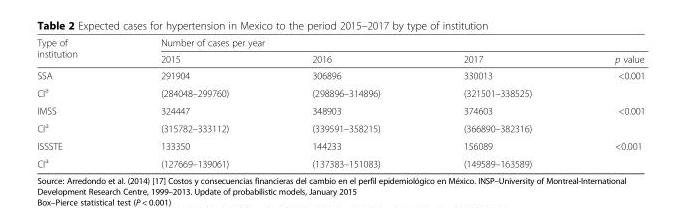table: (36, 36, 644, 169)
table column: (269, 36, 421, 169), (118, 36, 269, 169), (421, 36, 572, 169), (36, 36, 118, 169), (572, 36, 644, 169)
table column header: (36, 36, 644, 66)
table row: (36, 83, 644, 101), (36, 118, 644, 136), (36, 66, 644, 83), (36, 101, 644, 118), (36, 136, 644, 153), (36, 50, 644, 66), (36, 153, 644, 169), (36, 36, 644, 50)
table spanning cell: (118, 36, 644, 50), (36, 36, 118, 66)
